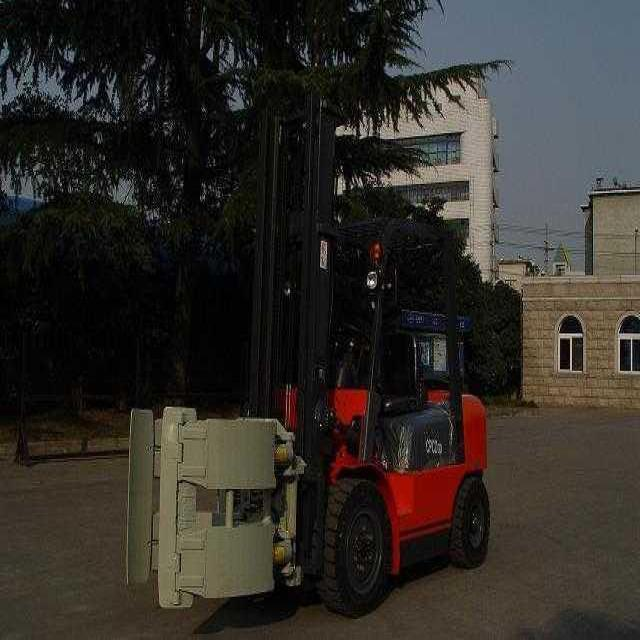forklift: (121, 89, 492, 624)
